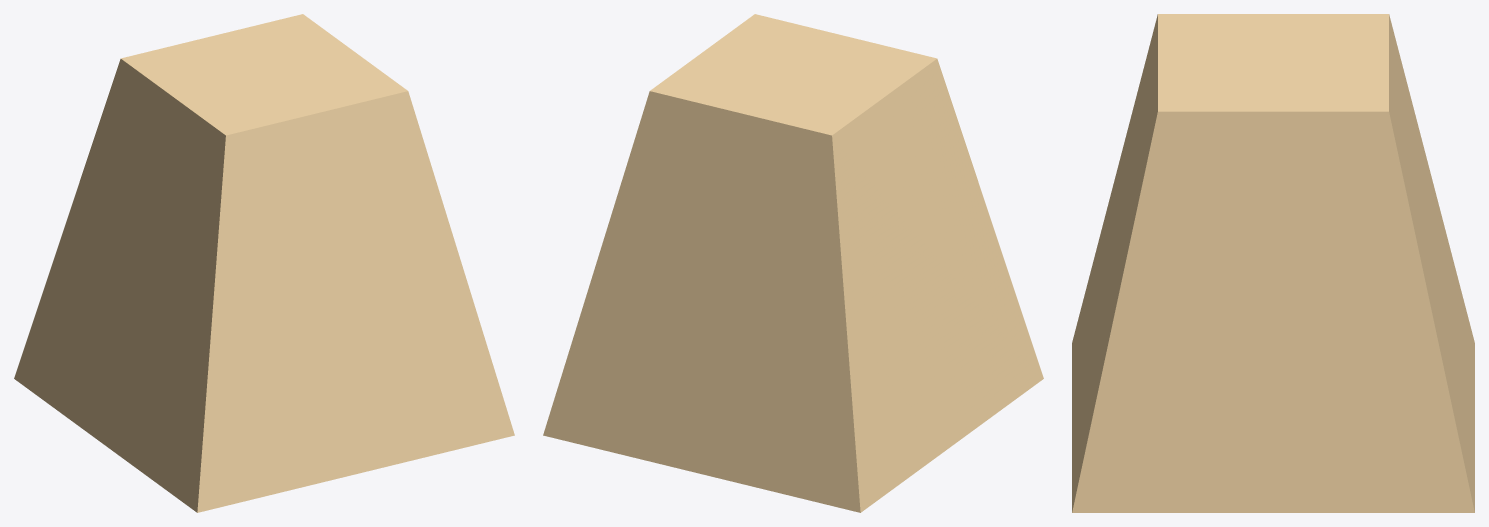
File: Stone_1.fbx
The picture shows the model from 3 angles, left to right: view 1: azimuth 30°, elevation 25°; view 2: azimuth 150°, elevation 25°; view 3: azimuth 270°, elevation 25°; orthographic projection. The views are drawn at different scales.
Visible parts, largest first — view 1: Stone; view 2: Stone; view 3: Stone.
Boxes of the visible parts, x1=… form: Stone: x1=14, y1=14, x2=514, y2=512; Stone: x1=543, y1=14, x2=1043, y2=512; Stone: x1=1072, y1=14, x2=1474, y2=512.
Bounding box in the file's own units: 100 × 100 × 100.
